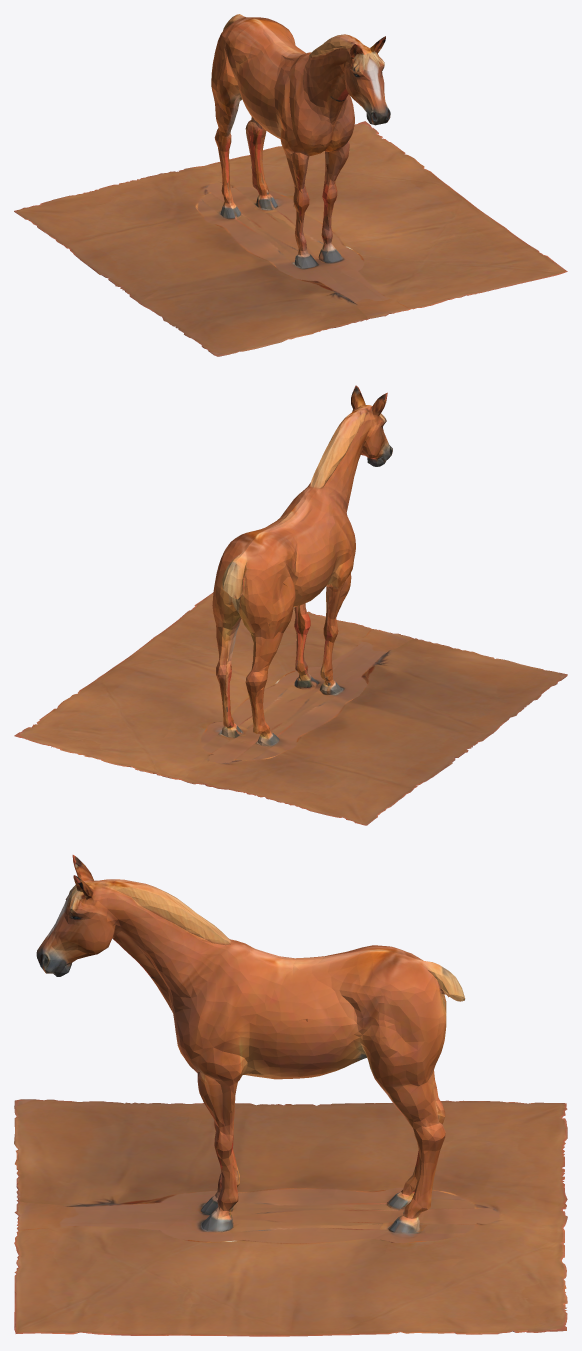
Rendered from Create_a_high_quality_0430031847_texture.fbx.
3 views of the same model, one above another, from view 1: azimuth 30°, elevation 25°; view 2: azimuth 150°, elevation 25°; view 3: azimuth 270°, elevation 25° (orthographic). The views are drawn at different scales.
Parts seen in each view (by area): view 1: temp; view 2: temp; view 3: temp.
Part boxes in pixels (box(x1,y1,x2,y2)): temp: box(14, 14, 567, 356); temp: box(14, 385, 567, 825); temp: box(14, 855, 567, 1336).
Bounding box in the file's own units: 201 × 142 × 200.
Materials: 1 (1 with a texture image).
